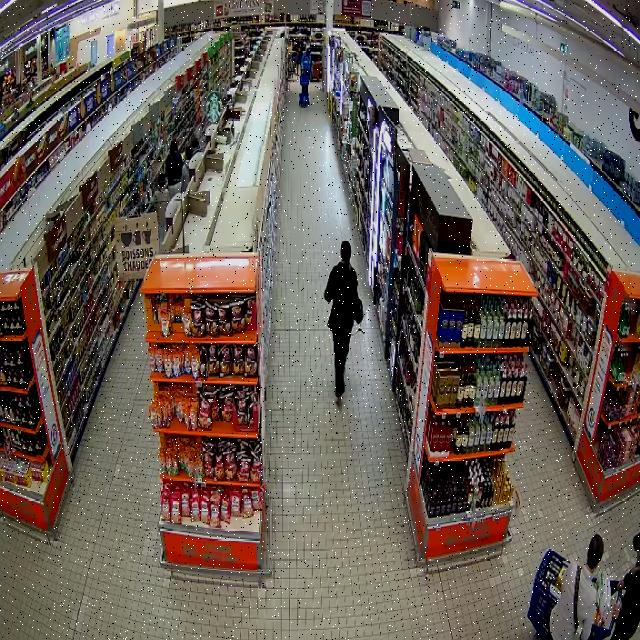bags: (575, 567, 579, 612), (355, 298, 362, 323), (572, 624, 581, 639)
person: (324, 240, 363, 404), (547, 537, 603, 639)
